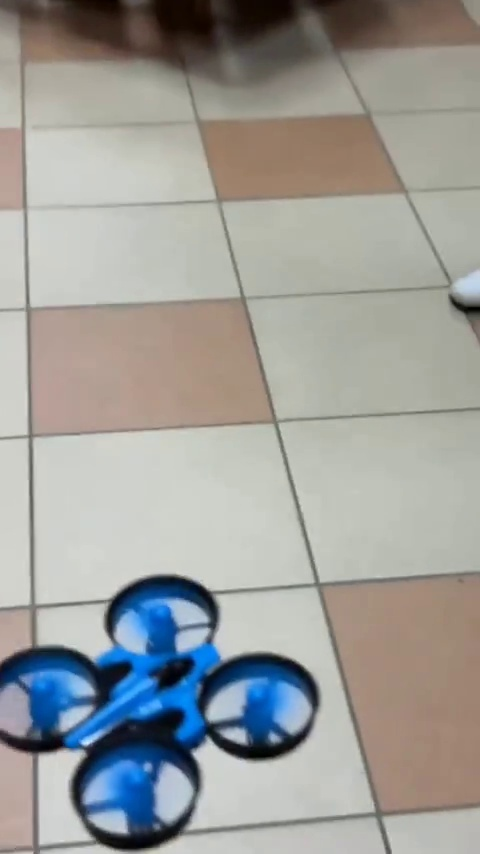drone: (9, 581, 318, 844)
